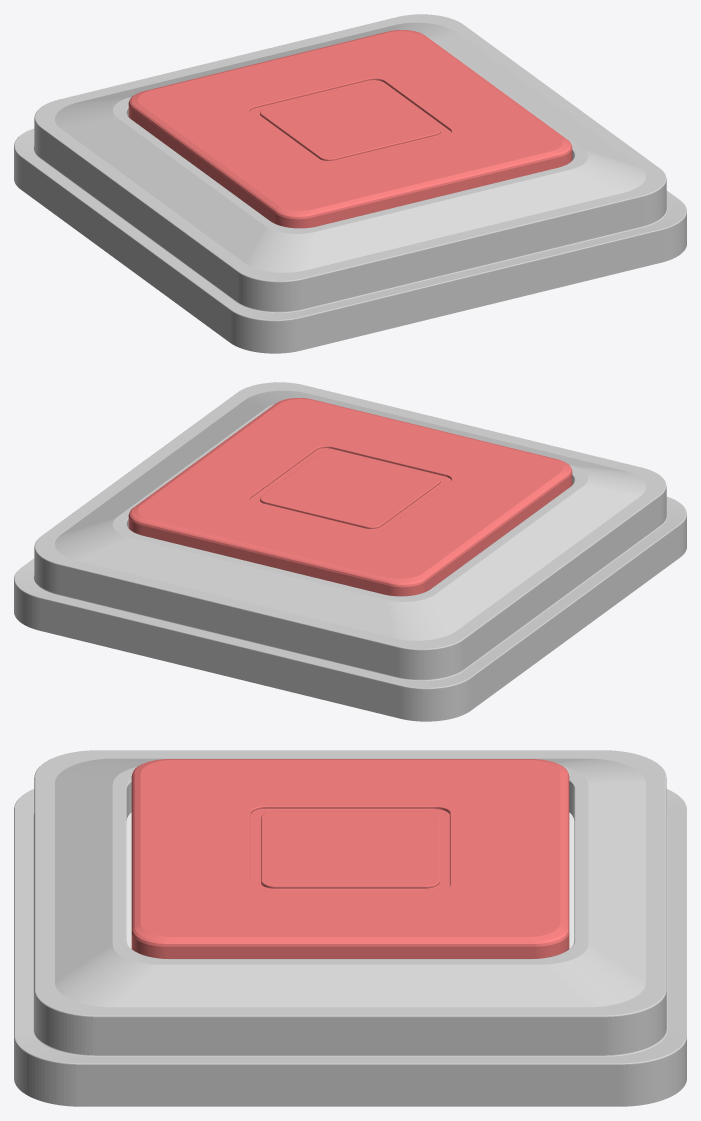
Rendered from PressurePlate.fbx.
3 renders of one model, top to bottom at view 1: azimuth 30°, elevation 25°; view 2: azimuth 150°, elevation 25°; view 3: azimuth 270°, elevation 25°, orthographic. The views are drawn at different scales.
Visible parts, largest first — view 1: Bottom, Plate; view 2: Bottom, Plate; view 3: Bottom, Plate, Inside.
Boxes of the visible parts, x1,y1,x2,y2 form: Bottom: [14, 14, 686, 353]; Plate: [128, 30, 572, 228]; Bottom: [14, 382, 686, 721]; Plate: [128, 398, 572, 596]; Bottom: [14, 750, 686, 1106]; Plate: [131, 759, 569, 958]; Inside: [126, 812, 574, 948].
Size of the model in its own units: 160 by 30.76 by 161.
